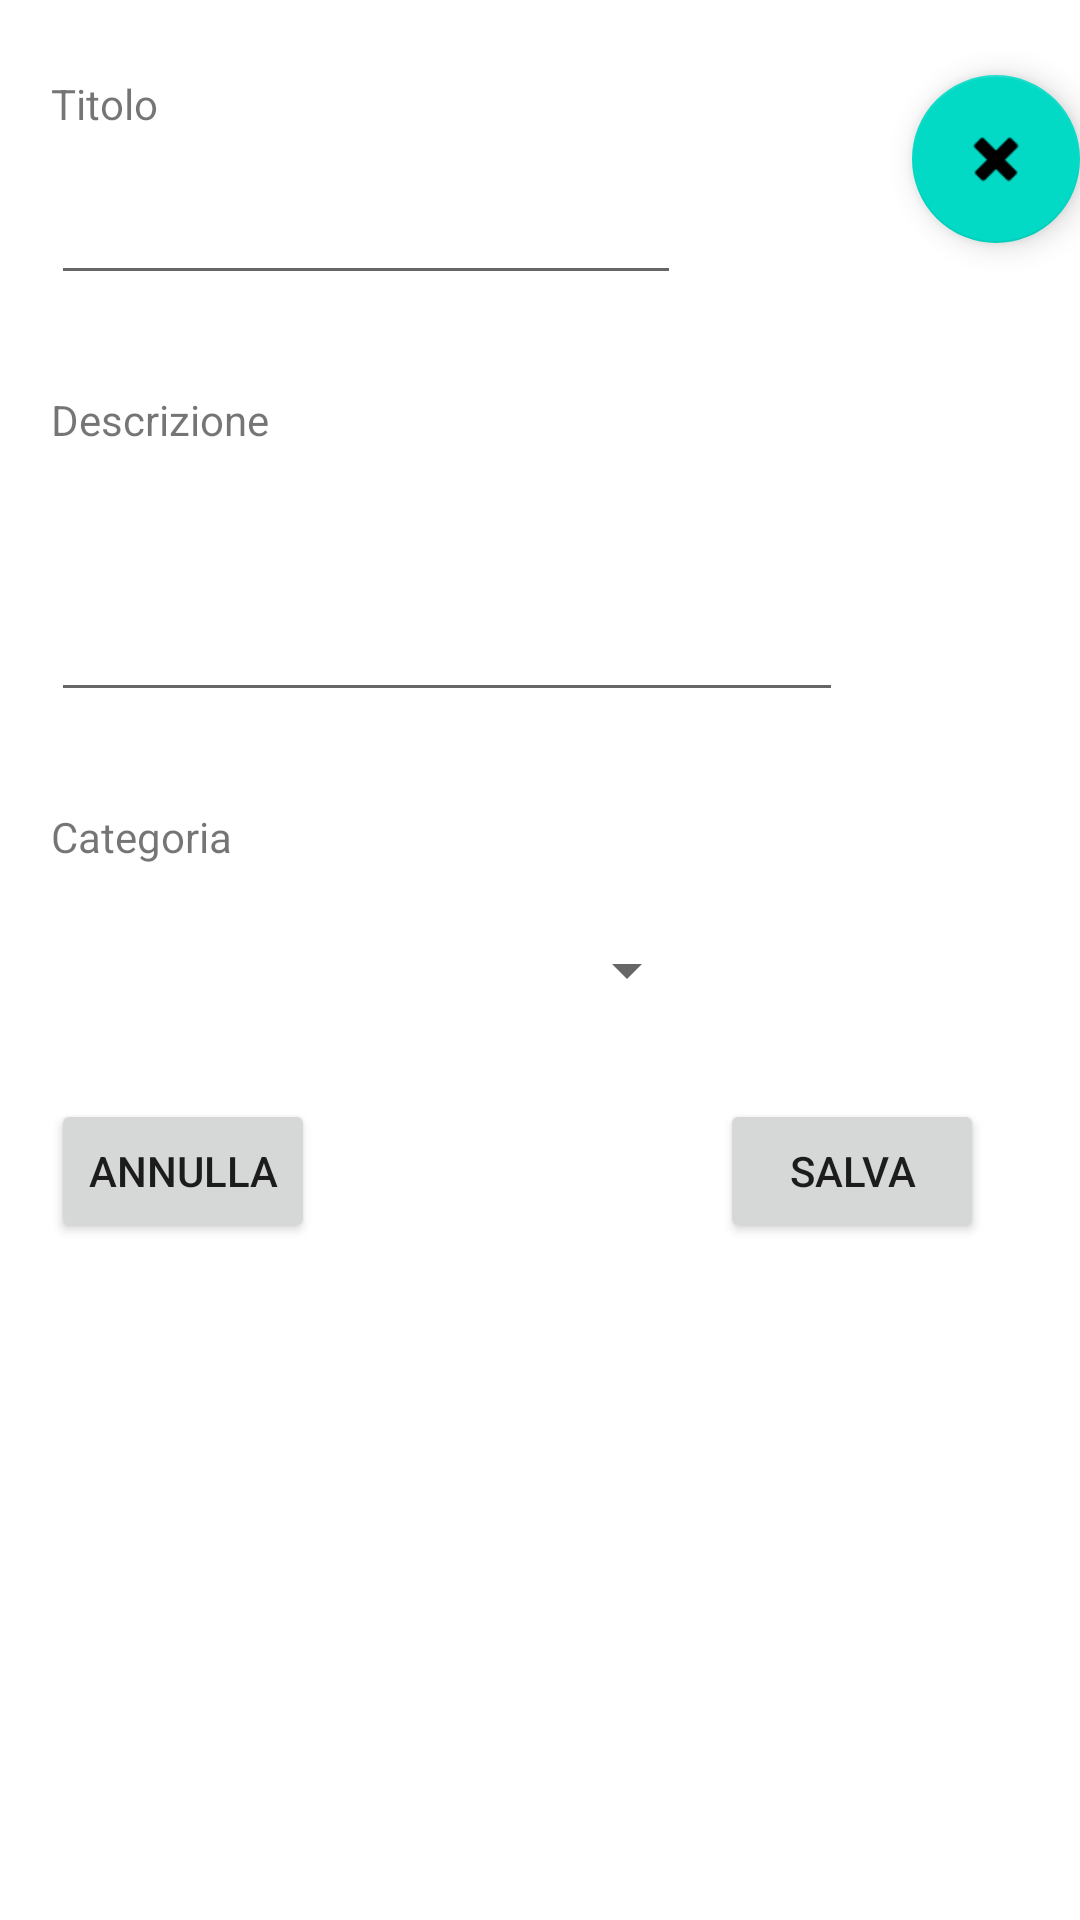

Icon click points for this 1080px×1920px phone screenshot, format (x=x, y=y):
delete: (x=996, y=159)
